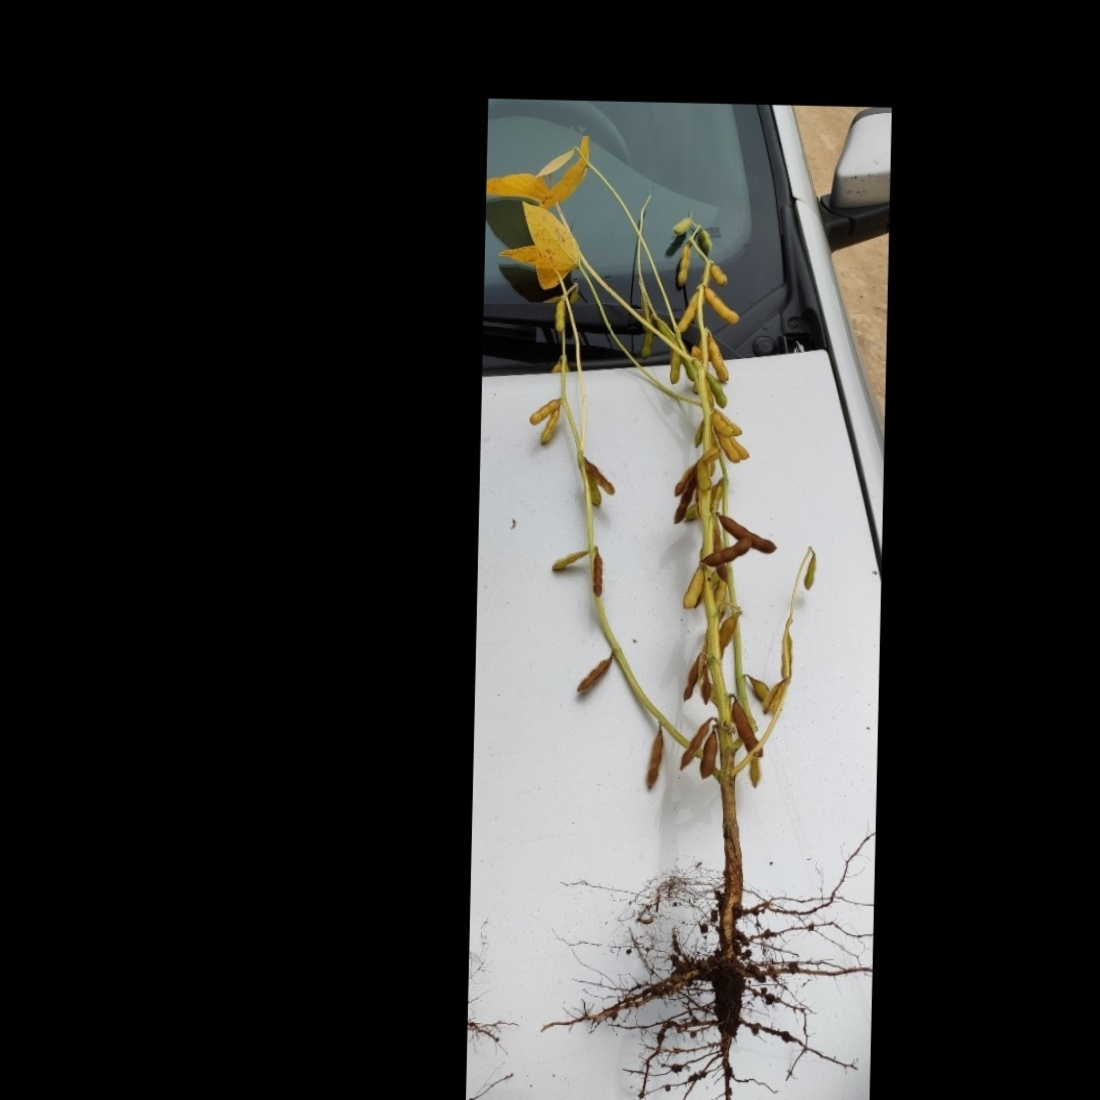pod: (711, 506, 778, 556), (692, 279, 748, 330), (723, 698, 765, 760), (637, 712, 665, 799), (696, 533, 754, 569), (575, 652, 616, 702), (694, 720, 725, 783), (698, 331, 730, 390), (548, 543, 600, 577), (525, 395, 565, 432), (674, 231, 693, 294), (545, 296, 571, 338), (681, 570, 707, 609), (802, 548, 823, 595), (704, 410, 737, 438), (592, 550, 609, 601), (698, 221, 715, 257)
soy: (514, 196, 844, 1081)
